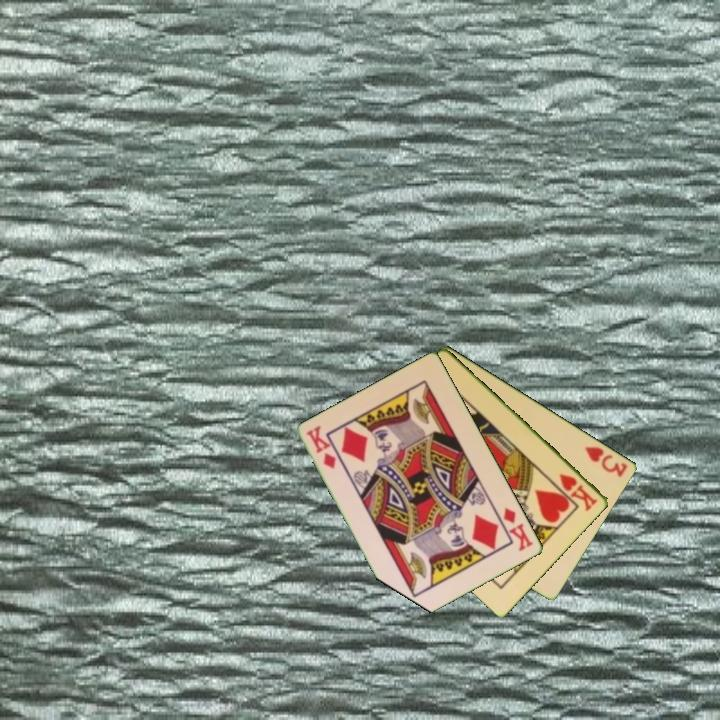3h: (581, 443, 631, 480)
Kd: (500, 504, 536, 554), (303, 422, 339, 472)
Kh: (556, 470, 601, 514)
